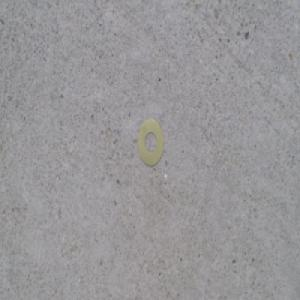Washer: (137, 119, 165, 170)
